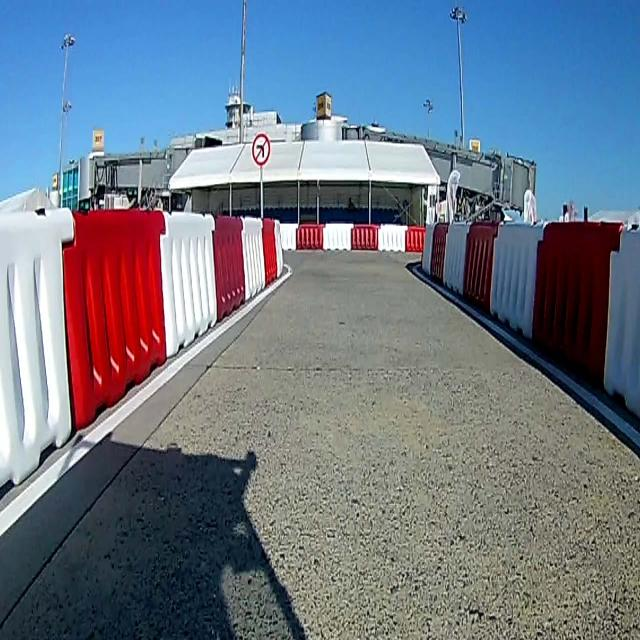soladonulmez: (251, 134, 271, 166)
